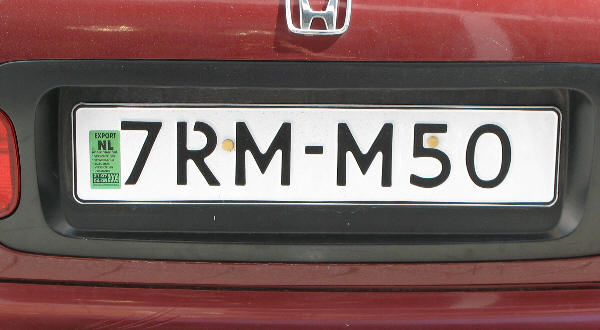license_plate: (72, 103, 562, 209)
